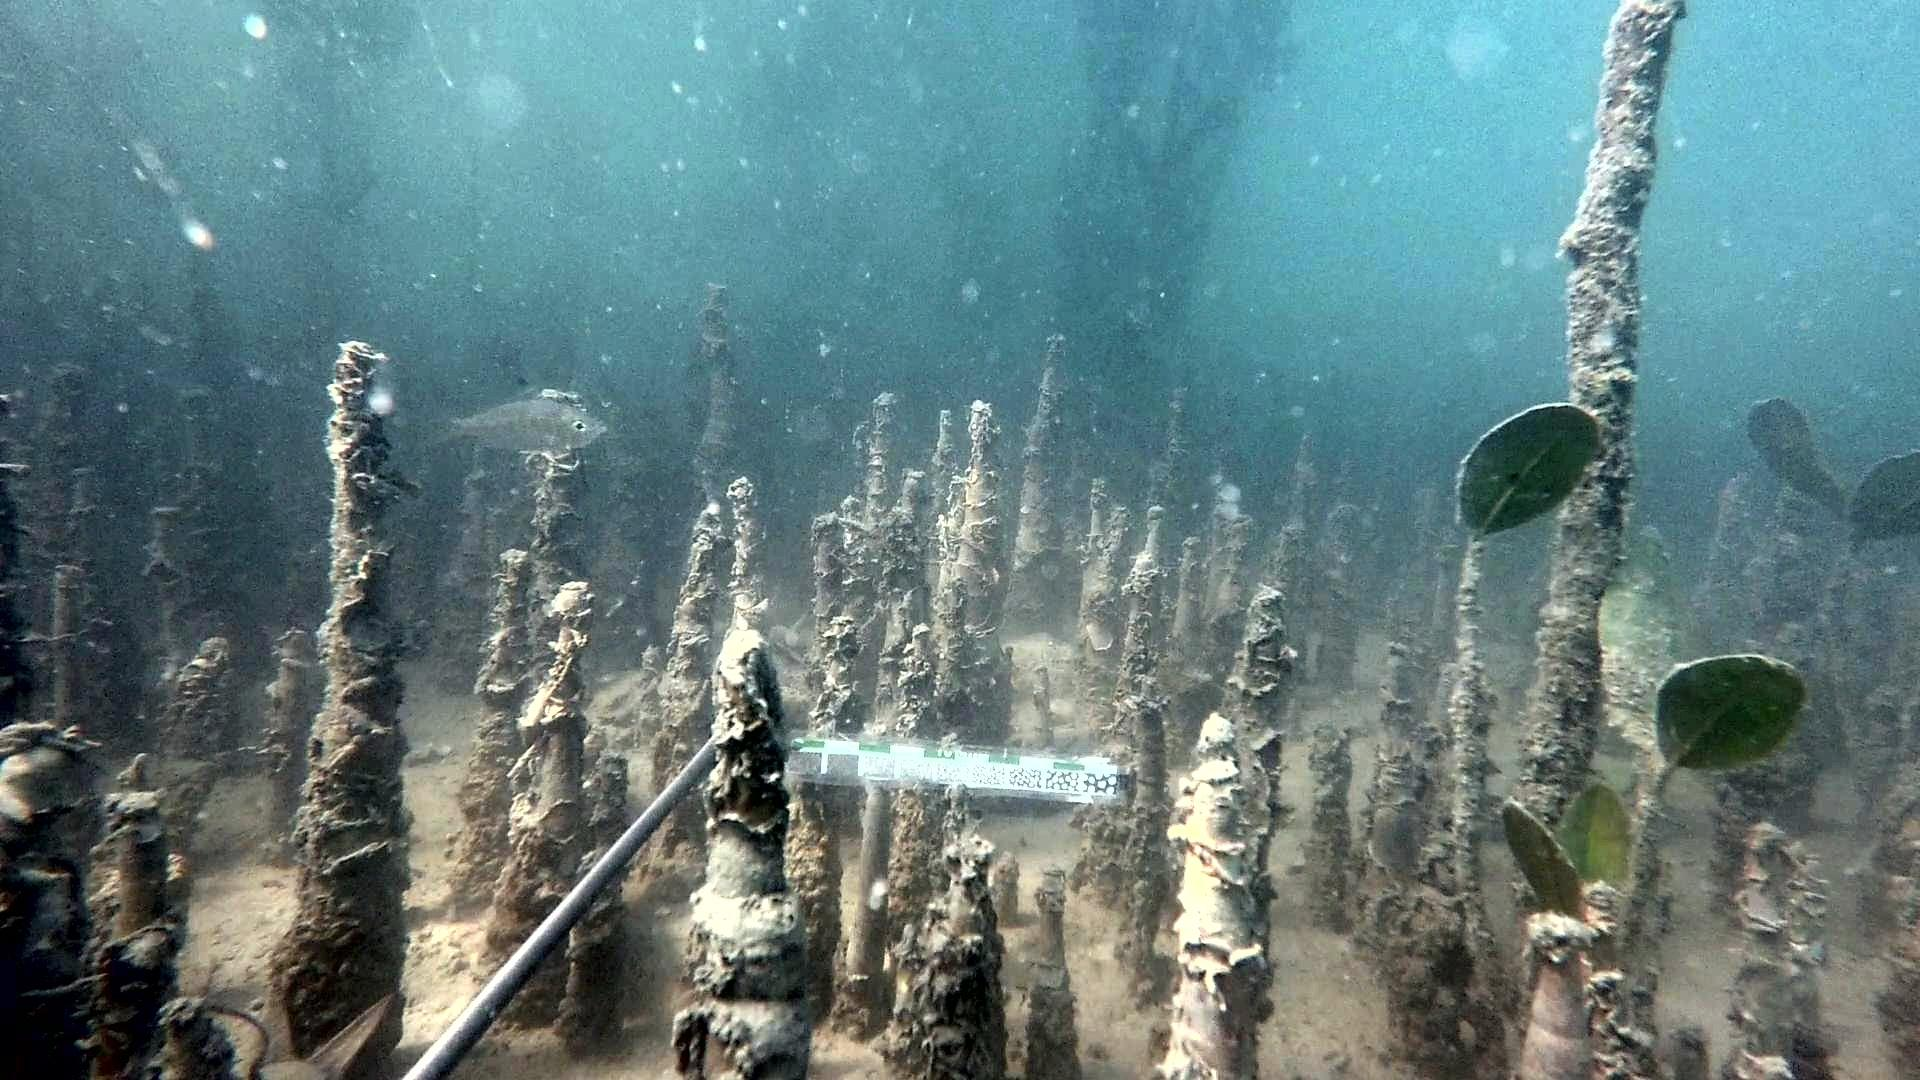gerres: (430, 376, 608, 455)
